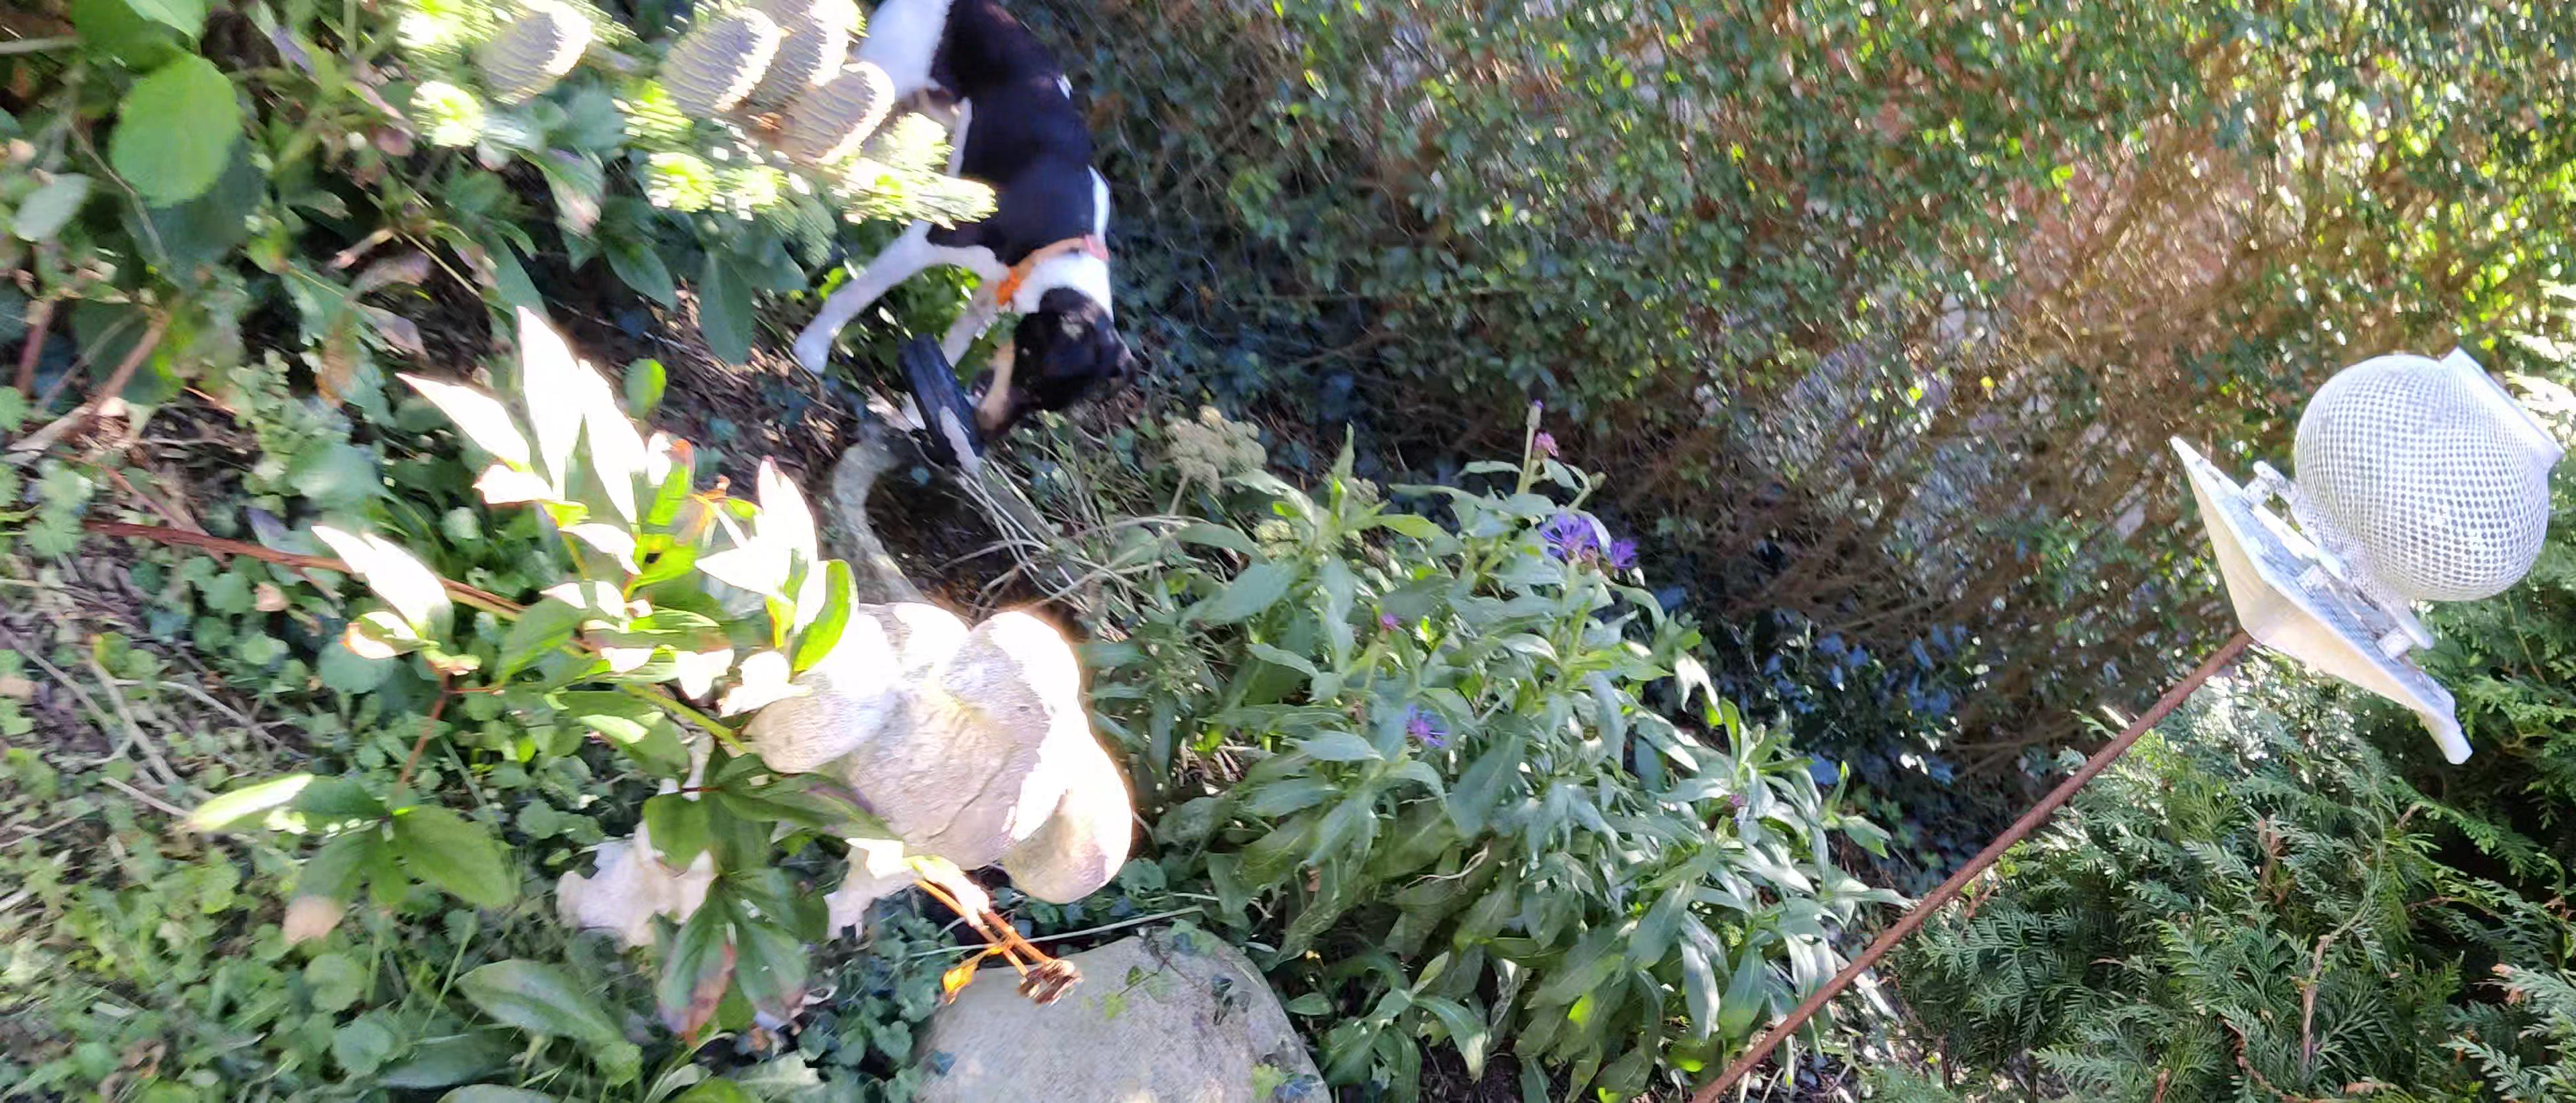Dog: (787, 0, 1145, 454)
